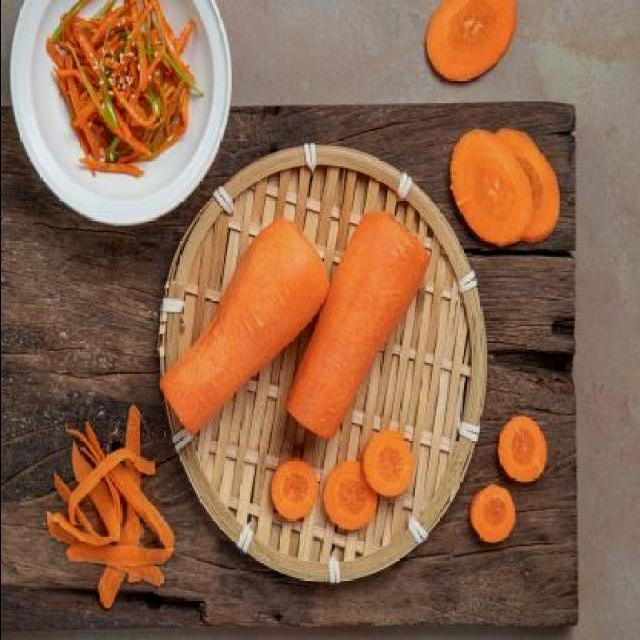carrot: (157, 212, 334, 454), (276, 204, 440, 453)
